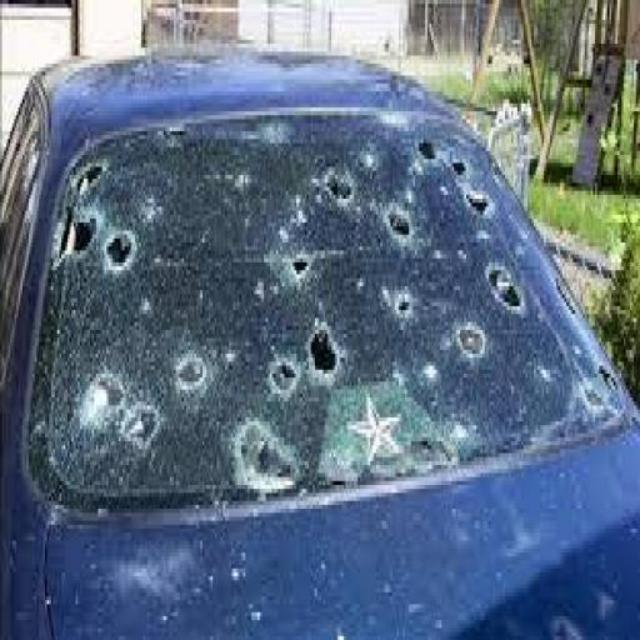glass shatter: (26, 105, 631, 525)
